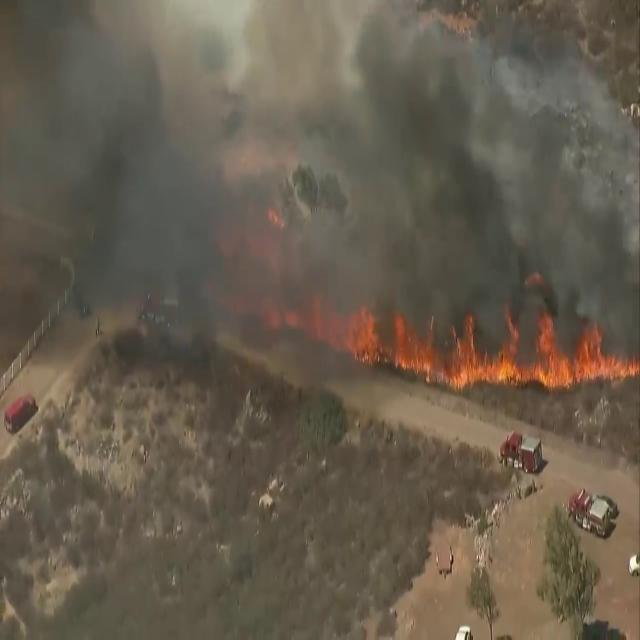Fire: (336, 298, 640, 390)
Smoke: (0, 1, 640, 387)
